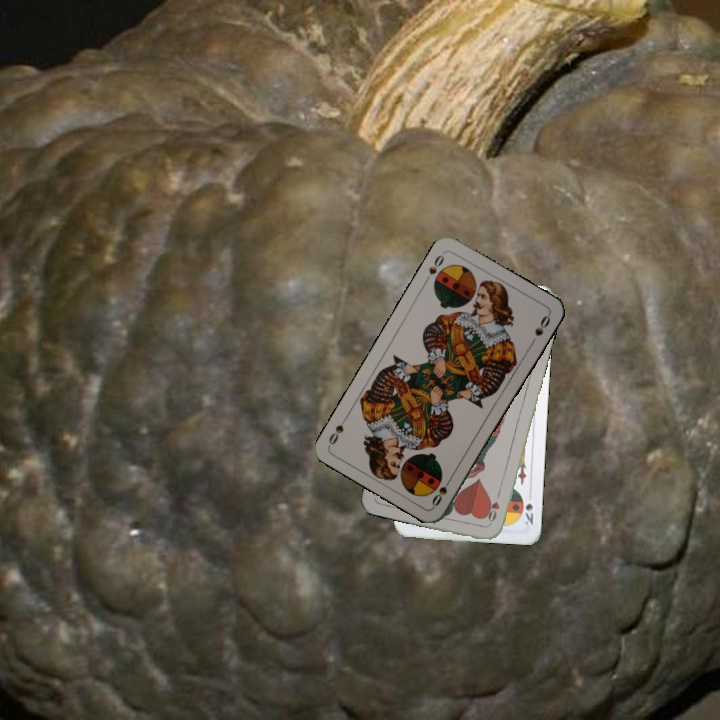HO: (484, 488, 503, 527)
SK: (518, 494, 536, 529)
SO: (428, 472, 455, 509), (421, 248, 447, 285)
